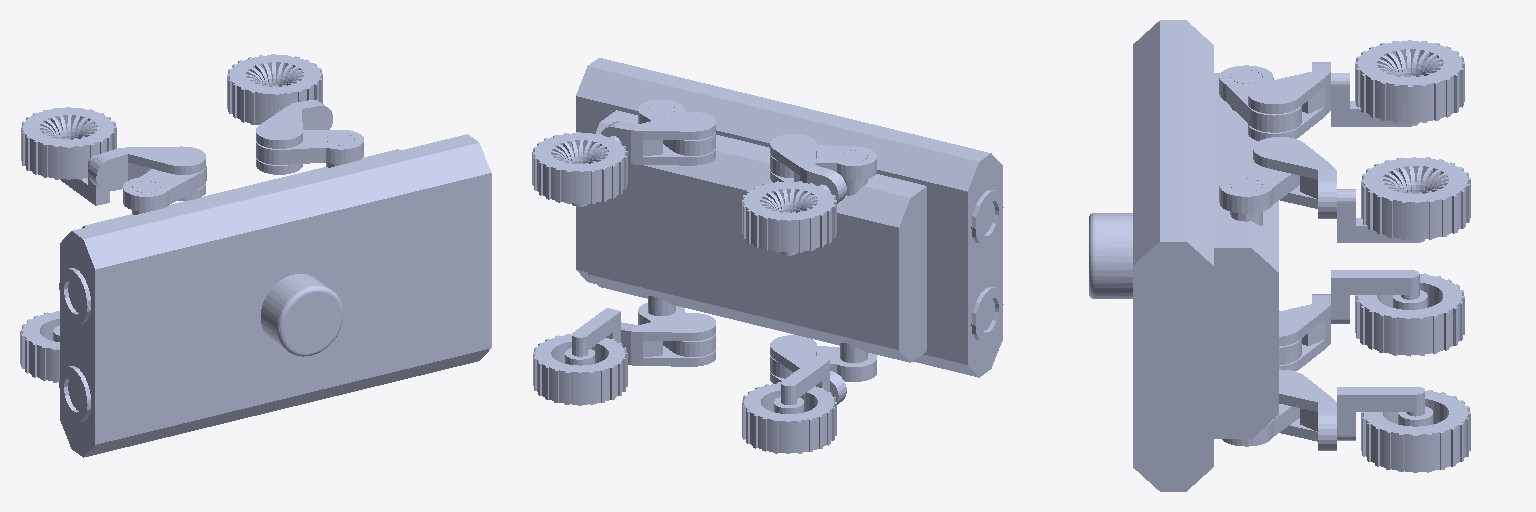
The robot description file, URDF, robot "mobile_robot":
<?xml version="1.0" encoding="utf-8"?>
<!-- This URDF was automatically created by SolidWorks to URDF Exporter! Originally created by [author] ([email redacted]) 
     Commit Version: 1.6.0-4-g7f85cfe  Build Version: 1.6.7995.38578
     For more information, please see http://wiki.ros.org/sw_urdf_exporter -->
<robot
  name="mobile_robot">
  <link
    name="base_link">
    <inertial>
      <origin
        xyz="-0.0005957 2.423E-08 0.030374"
        rpy="0 0 0" />
      <mass
        value="102.84" />
      <inertia
        ixx="2.2901"
        ixy="-3.0555E-07"
        ixz="0.0027335"
        iyy="7.6029"
        iyz="2.2414E-07"
        izz="8.7762" />
    </inertial>
    <visual>
      <origin
        xyz="0 0 0"
        rpy="0 0 0" />
      <geometry>
        <mesh
          filename="package://mobile_robot/meshes/base_link.STL" />
      </geometry>
      <material
        name="">
        <color
          rgba="0.79216 0.81961 0.93333 1" />
      </material>
    </visual>
    <collision>
      <origin
        xyz="0 0 0"
        rpy="0 0 0" />
      <geometry>
        <mesh
          filename="package://mobile_robot/meshes/base_link.STL" />
      </geometry>
    </collision>
  </link>
  <link
    name="link_1a">
    <inertial>
      <origin
        xyz="-0.039563 0.0175 -0.051981"
        rpy="0 0 0" />
      <mass
        value="0.50283" />
      <inertia
        ixx="0.0013292"
        ixy="3.8948E-20"
        ixz="-0.00067322"
        iyy="0.0022628"
        iyz="4.5606E-20"
        izz="0.0010363" />
    </inertial>
    <visual>
      <origin
        xyz="0 0 0"
        rpy="0 0 0" />
      <geometry>
        <mesh
          filename="package://mobile_robot/meshes/link_1a.STL" />
      </geometry>
      <material
        name="">
        <color
          rgba="0.79216 0.81961 0.93333 1" />
      </material>
    </visual>
    <collision>
      <origin
        xyz="0 0 0"
        rpy="0 0 0" />
      <geometry>
        <mesh
          filename="package://mobile_robot/meshes/link_1a.STL" />
      </geometry>
    </collision>
  </link>
  <joint
    name="joint_1a"
    type="fixed">
    <origin
      xyz="-0.2365 0.06 0.219"
      rpy="1.5707963267949 0 -1.83259571459404" />
    <parent
      link="base_link" />
    <child
      link="link_1a" />
    <axis
      xyz="0 0 0" />
  </joint>
  <link
    name="link_2a">
    <inertial>
      <origin
        xyz="0.053752 5.5511E-17 0.012418"
        rpy="0 0 0" />
      <mass
        value="0.83985" />
      <inertia
        ixx="0.0010103"
        ixy="3.5159E-18"
        ixz="0.00045632"
        iyy="0.0038041"
        iyz="1.2247E-19"
        izz="0.0039259" />
    </inertial>
    <visual>
      <origin
        xyz="0 0 0"
        rpy="0 0 0" />
      <geometry>
        <mesh
          filename="package://mobile_robot/meshes/link_2a.STL" />
      </geometry>
      <material
        name="">
        <color
          rgba="0.79216 0.81961 0.93333 1" />
      </material>
    </visual>
    <collision>
      <origin
        xyz="0 0 0"
        rpy="0 0 0" />
      <geometry>
        <mesh
          filename="package://mobile_robot/meshes/link_2a.STL" />
      </geometry>
    </collision>
  </link>
  <joint
    name="joint_2a"
    type="fixed">
    <origin
      xyz="-0.065529 0.0175 -0.09221"
      rpy="3.1416 -1.0472 3.1416" />
    <parent
      link="link_1a" />
    <child
      link="link_2a" />
    <axis
      xyz="0 0 0" />
  </joint>
  <link
    name="link_3a">
    <inertial>
      <origin
        xyz="0.042962 0 -0.10116"
        rpy="0 0 0" />
      <mass
        value="0.35188" />
      <inertia
        ixx="0.0012021"
        ixy="2.7184E-20"
        ixz="0.00020915"
        iyy="0.0014526"
        iyz="-1.5189E-20"
        izz="0.00031657" />
    </inertial>
    <visual>
      <origin
        xyz="0 0 0"
        rpy="0 0 0" />
      <geometry>
        <mesh
          filename="package://mobile_robot/meshes/link_3a.STL" />
      </geometry>
      <material
        name="">
        <color
          rgba="0.79216 0.81961 0.93333 1" />
      </material>
    </visual>
    <collision>
      <origin
        xyz="0 0 0"
        rpy="0 0 0" />
      <geometry>
        <mesh
          filename="package://mobile_robot/meshes/link_3a.STL" />
      </geometry>
    </collision>
  </link>
  <joint
    name="joint_3a"
    type="revolute">
    <origin
      xyz="0.14328 0 -0.028284"
      rpy="2.3562 0 -1.5708" />
    <parent
      link="link_2a" />
    <child
      link="link_3a" />
    <axis
      xyz="0 0 1" />
    <limit
      lower="-1.5708"
      upper="1.5708"
      effort="0"
      velocity="0" />
  </joint>
  <link
    name="wheel_a">
    <inertial>
      <origin
        xyz="2.7756E-17 -0.00032568 -1.1102E-16"
        rpy="0 0 0" />
      <mass
        value="1.5436" />
      <inertia
        ixx="0.0055361"
        ixy="1.2164E-18"
        ixz="-4.5536E-18"
        iyy="0.0095744"
        iyz="8.0969E-19"
        izz="0.0055361" />
    </inertial>
    <visual>
      <origin
        xyz="0 0 0"
        rpy="0 0 0" />
      <geometry>
        <mesh
          filename="package://mobile_robot/meshes/wheel_a.STL" />
      </geometry>
      <material
        name="">
        <color
          rgba="0.79216 0.81961 0.93333 1" />
      </material>
    </visual>
    <collision>
      <origin
        xyz="0 0 0"
        rpy="0 0 0" />
      <geometry>
        <mesh
          filename="package://mobile_robot/meshes/wheel_a.STL" />
      </geometry>
    </collision>
  </link>
  <joint
    name="wheel_joint_a"
    type="continuous">
    <origin
      xyz="0 0 -0.181"
      rpy="3.1416 -1.007 -1.5708" />
    <parent
      link="link_3a" />
    <child
      link="wheel_a" />
    <axis
      xyz="0 1 0" />
  </joint>
  <link
    name="link_1b">
    <inertial>
      <origin
        xyz="-0.039563006306928 0.0175 -0.0519808529026815"
        rpy="0 0 0" />
      <mass
        value="0.502830874607731" />
      <inertia
        ixx="0.00132920865544275"
        ixy="-1.25790800504412E-19"
        ixz="-0.000673218555283649"
        iyy="0.0022628023452921"
        iyz="-1.36434319248097E-19"
        izz="0.00103625499341509" />
    </inertial>
    <visual>
      <origin
        xyz="0 0 0"
        rpy="0 0 0" />
      <geometry>
        <mesh
          filename="package://mobile_robot/meshes/link_1b.STL" />
      </geometry>
      <material
        name="">
        <color
          rgba="0.792156862745098 0.819607843137255 0.933333333333333 1" />
      </material>
    </visual>
    <collision>
      <origin
        xyz="0 0 0"
        rpy="0 0 0" />
      <geometry>
        <mesh
          filename="package://mobile_robot/meshes/link_1b.STL" />
      </geometry>
    </collision>
  </link>
  <joint
    name="joint_1b"
    type="fixed">
    <origin
      xyz="-0.2365 0.06 -0.254"
      rpy="1.5708 0 -1.8326" />
    <parent
      link="base_link" />
    <child
      link="link_1b" />
    <axis
      xyz="0 0 0" />
  </joint>
  <link
    name="link_2b">
    <inertial>
      <origin
        xyz="0.053752102153806 2.77555756156289E-17 0.012417867361845"
        rpy="0 0 0" />
      <mass
        value="0.839852789561809" />
      <inertia
        ixx="0.00101033633411804"
        ixy="2.18377621542409E-18"
        ixz="0.000456321325264451"
        iyy="0.00380409172847023"
        iyz="-4.12559137247788E-19"
        izz="0.00392594422883486" />
    </inertial>
    <visual>
      <origin
        xyz="0 0 0"
        rpy="0 0 0" />
      <geometry>
        <mesh
          filename="package://mobile_robot/meshes/link_2b.STL" />
      </geometry>
      <material
        name="">
        <color
          rgba="0.792156862745098 0.819607843137255 0.933333333333333 1" />
      </material>
    </visual>
    <collision>
      <origin
        xyz="0 0 0"
        rpy="0 0 0" />
      <geometry>
        <mesh
          filename="package://mobile_robot/meshes/link_2b.STL" />
      </geometry>
    </collision>
  </link>
  <joint
    name="joint_2b"
    type="fixed">
    <origin
      xyz="-0.065529 0.0175 -0.09221"
      rpy="3.1416 -1.0472 3.1416" />
    <parent
      link="link_1b" />
    <child
      link="link_2b" />
    <axis
      xyz="0 0 0" />
  </joint>
  <link
    name="link_3b">
    <inertial>
      <origin
        xyz="0.0429616361908162 0 -0.101156749416517"
        rpy="0 0 0" />
      <mass
        value="0.351878584084715" />
      <inertia
        ixx="0.00120209563686855"
        ixy="9.90467630203431E-20"
        ixz="0.000209154549476735"
        iyy="0.00145264496019541"
        iyz="-2.64435583025856E-20"
        izz="0.000316574406941379" />
    </inertial>
    <visual>
      <origin
        xyz="0 0 0"
        rpy="0 0 0" />
      <geometry>
        <mesh
          filename="package://mobile_robot/meshes/link_3b.STL" />
      </geometry>
      <material
        name="">
        <color
          rgba="0.792156862745098 0.819607843137255 0.933333333333333 1" />
      </material>
    </visual>
    <collision>
      <origin
        xyz="0 0 0"
        rpy="0 0 0" />
      <geometry>
        <mesh
          filename="package://mobile_robot/meshes/link_3b.STL" />
      </geometry>
    </collision>
  </link>
  <joint
    name="joint_3b"
    type="revolute">
    <origin
      xyz="0.14328 0 -0.028284"
      rpy="-2.3562 0 1.5708" />
    <parent
      link="link_2b" />
    <child
      link="link_3b" />
    <axis
      xyz="0 0 1" />
    <limit
      lower="-1.5708"
      upper="1.5708"
      effort="0"
      velocity="0" />
  </joint>
  <link
    name="wheel_b">
    <inertial>
      <origin
        xyz="0 -0.000325682611319128 0"
        rpy="0 0 0" />
      <mass
        value="1.54358472058328" />
      <inertia
        ixx="0.00553612528961153"
        ixy="2.24148890264748E-19"
        ixz="-2.16840434497101E-19"
        iyy="0.00957443122522794"
        iyz="3.35832558184495E-19"
        izz="0.00553612528961153" />
    </inertial>
    <visual>
      <origin
        xyz="0 0 0"
        rpy="0 0 0" />
      <geometry>
        <mesh
          filename="package://mobile_robot/meshes/wheel_b.STL" />
      </geometry>
      <material
        name="">
        <color
          rgba="0.792156862745098 0.819607843137255 0.933333333333333 1" />
      </material>
    </visual>
    <collision>
      <origin
        xyz="0 0 0"
        rpy="0 0 0" />
      <geometry>
        <mesh
          filename="package://mobile_robot/meshes/wheel_b.STL" />
      </geometry>
    </collision>
  </link>
  <joint
    name="wheel_joint_b"
    type="continuous">
    <origin
      xyz="0 0 -0.181"
      rpy="0 0.5132 1.5708" />
    <parent
      link="link_3b" />
    <child
      link="wheel_b" />
    <axis
      xyz="0 1 0" />
  </joint>
  <link
    name="link_1c">
    <inertial>
      <origin
        xyz="-0.0395630063069281 0.0175 -0.0519808529026815"
        rpy="0 0 0" />
      <mass
        value="0.502830874607731" />
      <inertia
        ixx="0.00132920865544275"
        ixy="-6.1654949534134E-20"
        ixz="-0.00067321855528365"
        iyy="0.0022628023452921"
        iyz="7.59540540768857E-21"
        izz="0.00103625499341509" />
    </inertial>
    <visual>
      <origin
        xyz="0 0 0"
        rpy="0 0 0" />
      <geometry>
        <mesh
          filename="package://mobile_robot/meshes/link_1c.STL" />
      </geometry>
      <material
        name="">
        <color
          rgba="0.792156862745098 0.819607843137255 0.933333333333333 1" />
      </material>
    </visual>
    <collision>
      <origin
        xyz="0 0 0"
        rpy="0 0 0" />
      <geometry>
        <mesh
          filename="package://mobile_robot/meshes/link_1c.STL" />
      </geometry>
    </collision>
  </link>
  <joint
    name="joint_1c"
    type="fixed">
    <origin
      xyz="0.2365 0.06 -0.254"
      rpy="1.5708 0 0.39187" />
    <parent
      link="base_link" />
    <child
      link="link_1c" />
    <axis
      xyz="0 0 0" />
  </joint>
  <link
    name="link_2c">
    <inertial>
      <origin
        xyz="0.0537521021538061 5.55111512312578E-17 0.012417867361845"
        rpy="0 0 0" />
      <mass
        value="0.83985278956181" />
      <inertia
        ixx="0.00101033633411805"
        ixy="2.32765525104793E-18"
        ixz="0.000456321325264452"
        iyy="0.00380409172847023"
        iyz="3.76989989844925E-20"
        izz="0.00392594422883488" />
    </inertial>
    <visual>
      <origin
        xyz="0 0 0"
        rpy="0 0 0" />
      <geometry>
        <mesh
          filename="package://mobile_robot/meshes/link_2c.STL" />
      </geometry>
      <material
        name="">
        <color
          rgba="0.792156862745098 0.819607843137255 0.933333333333333 1" />
      </material>
    </visual>
    <collision>
      <origin
        xyz="0 0 0"
        rpy="0 0 0" />
      <geometry>
        <mesh
          filename="package://mobile_robot/meshes/link_2c.STL" />
      </geometry>
    </collision>
  </link>
  <joint
    name="joint_2c"
    type="fixed">
    <origin
      xyz="-0.074188 0.0175 -0.08461"
      rpy="3.1416 0.39353 0" />
    <parent
      link="link_1c" />
    <child
      link="link_2c" />
    <axis
      xyz="0 0 0" />
  </joint>
  <link
    name="link_3c">
    <inertial>
      <origin
        xyz="0.0429616361908162 0.0175 0.0248432505834826"
        rpy="0 0 0" />
      <mass
        value="0.351878584084715" />
      <inertia
        ixx="0.00120209563686855"
        ixy="-1.83460442767597E-20"
        ixz="0.000209154549476735"
        iyy="0.00145264496019541"
        iyz="1.21046182851412E-19"
        izz="0.000316574406941379" />
    </inertial>
    <visual>
      <origin
        xyz="0 0 0"
        rpy="0 0 0" />
      <geometry>
        <mesh
          filename="package://mobile_robot/meshes/link_3c.STL" />
      </geometry>
      <material
        name="">
        <color
          rgba="0.792156862745098 0.819607843137255 0.933333333333333 1" />
      </material>
    </visual>
    <collision>
      <origin
        xyz="0 0 0"
        rpy="0 0 0" />
      <geometry>
        <mesh
          filename="package://mobile_robot/meshes/link_3c.STL" />
      </geometry>
    </collision>
  </link>
  <joint
    name="joint_3c"
    type="fixed">
    <origin
      xyz="0.24475 0 0.048437"
      rpy="2.3562 0 -1.5708" />
    <parent
      link="link_2c" />
    <child
      link="link_3c" />
    <axis
      xyz="0 0 0" />
  </joint>
  <link
    name="wheel_c">
    <inertial>
      <origin
        xyz="5.55111512312578E-17 -0.00032568261131935 -1.11022302462516E-16"
        rpy="0 0 0" />
      <mass
        value="1.54358472058328" />
      <inertia
        ixx="0.00553612528961155"
        ixy="4.16479688089891E-19"
        ixz="-1.30104260698261E-18"
        iyy="0.00957443122522799"
        iyz="5.28611900711342E-19"
        izz="0.00553612528961156" />
    </inertial>
    <visual>
      <origin
        xyz="0 0 0"
        rpy="0 0 0" />
      <geometry>
        <mesh
          filename="package://mobile_robot/meshes/wheel_c.STL" />
      </geometry>
      <material
        name="">
        <color
          rgba="0.792156862745098 0.819607843137255 0.933333333333333 1" />
      </material>
    </visual>
    <collision>
      <origin
        xyz="0 0 0"
        rpy="0 0 0" />
      <geometry>
        <mesh
          filename="package://mobile_robot/meshes/wheel_c.STL" />
      </geometry>
    </collision>
  </link>
  <joint
    name="wheel_joint_c"
    type="continuous">
    <origin
      xyz="0 0.0175 -0.055"
      rpy="0 0.48844 1.5708" />
    <parent
      link="link_3c" />
    <child
      link="wheel_c" />
    <axis
      xyz="0 1 0" />
  </joint>
  <link
    name="link_1d">
    <inertial>
      <origin
        xyz="-0.0395630063069281 0.0175 -0.0519808529026815"
        rpy="0 0 0" />
      <mass
        value="0.502830874607731" />
      <inertia
        ixx="0.00132920865544275"
        ixy="-1.2946873241384E-20"
        ixz="-0.000673218555283649"
        iyy="0.0022628023452921"
        iyz="1.94753182428243E-22"
        izz="0.00103625499341509" />
    </inertial>
    <visual>
      <origin
        xyz="0 0 0"
        rpy="0 0 0" />
      <geometry>
        <mesh
          filename="package://mobile_robot/meshes/link_1d.STL" />
      </geometry>
      <material
        name="">
        <color
          rgba="0.792156862745098 0.819607843137255 0.933333333333333 1" />
      </material>
    </visual>
    <collision>
      <origin
        xyz="0 0 0"
        rpy="0 0 0" />
      <geometry>
        <mesh
          filename="package://mobile_robot/meshes/link_1d.STL" />
      </geometry>
    </collision>
  </link>
  <joint
    name="joint_1d"
    type="fixed">
    <origin
      xyz="0.2365 0.06 0.219"
      rpy="1.5708 0 0.39187" />
    <parent
      link="base_link" />
    <child
      link="link_1d" />
    <axis
      xyz="0 0 0" />
  </joint>
  <link
    name="link_2">
    <inertial>
      <origin
        xyz="0.0537521021538062 2.77555756156289E-17 0.012417867361845"
        rpy="0 0 0" />
      <mass
        value="0.83985278956181" />
      <inertia
        ixx="0.00101033633411805"
        ixy="1.14413683967417E-18"
        ixz="0.000456321325264452"
        iyy="0.00380409172847024"
        iyz="2.3886409977526E-19"
        izz="0.00392594422883488" />
    </inertial>
    <visual>
      <origin
        xyz="0 0 0"
        rpy="0 0 0" />
      <geometry>
        <mesh
          filename="package://mobile_robot/meshes/link_2.STL" />
      </geometry>
      <material
        name="">
        <color
          rgba="0.792156862745098 0.819607843137255 0.933333333333333 1" />
      </material>
    </visual>
    <collision>
      <origin
        xyz="0 0 0"
        rpy="0 0 0" />
      <geometry>
        <mesh
          filename="package://mobile_robot/meshes/link_2.STL" />
      </geometry>
    </collision>
  </link>
  <joint
    name="joint_2"
    type="fixed">
    <origin
      xyz="-0.074188 0.0175 -0.08461"
      rpy="3.1416 0.39353 0" />
    <parent
      link="link_1d" />
    <child
      link="link_2" />
    <axis
      xyz="0 0 0" />
  </joint>
  <link
    name="link_3d">
    <inertial>
      <origin
        xyz="0.0429616361908162 0.0175 0.0248432505834826"
        rpy="0 0 0" />
      <mass
        value="0.351878584084715" />
      <inertia
        ixx="0.00120209563686855"
        ixy="-3.5613123466281E-20"
        ixz="0.000209154549476735"
        iyy="0.00145264496019541"
        iyz="-1.97938259373571E-19"
        izz="0.000316574406941379" />
    </inertial>
    <visual>
      <origin
        xyz="0 0 0"
        rpy="0 0 0" />
      <geometry>
        <mesh
          filename="package://mobile_robot/meshes/link_3d.STL" />
      </geometry>
      <material
        name="">
        <color
          rgba="0.792156862745098 0.819607843137255 0.933333333333333 1" />
      </material>
    </visual>
    <collision>
      <origin
        xyz="0 0 0"
        rpy="0 0 0" />
      <geometry>
        <mesh
          filename="package://mobile_robot/meshes/link_3d.STL" />
      </geometry>
    </collision>
  </link>
  <joint
    name="joint_3d"
    type="fixed">
    <origin
      xyz="0.22001 0 0.073186"
      rpy="-2.3562 0 1.5708" />
    <parent
      link="link_2" />
    <child
      link="link_3d" />
    <axis
      xyz="0 0 0" />
  </joint>
  <link
    name="wheel_d">
    <inertial>
      <origin
        xyz="0 -0.000325682611318989 0"
        rpy="0 0 0" />
      <mass
        value="1.54358472058328" />
      <inertia
        ixx="0.00553612528961153"
        ixy="2.76130854728311E-18"
        ixz="-3.03576608295941E-18"
        iyy="0.00957443122522794"
        iyz="-1.43498117338083E-19"
        izz="0.00553612528961153" />
    </inertial>
    <visual>
      <origin
        xyz="0 0 0"
        rpy="0 0 0" />
      <geometry>
        <mesh
          filename="package://mobile_robot/meshes/wheel_d.STL" />
      </geometry>
      <material
        name="">
        <color
          rgba="0.792156862745098 0.819607843137255 0.933333333333333 1" />
      </material>
    </visual>
    <collision>
      <origin
        xyz="0 0 0"
        rpy="0 0 0" />
      <geometry>
        <mesh
          filename="package://mobile_robot/meshes/wheel_d.STL" />
      </geometry>
    </collision>
  </link>
  <joint
    name="wheel_joint_d"
    type="continuous">
    <origin
      xyz="0 0.0175 -0.055"
      rpy="0 0.77621 1.5708" />
    <parent
      link="link_3d" />
    <child
      link="wheel_d" />
    <axis
      xyz="0 1 0" />
  </joint>
  <link
    name="lidar">
    <inertial>
      <origin
        xyz="1.16356825275844E-18 8.31876439690872E-18 0.0497497202049783"
        rpy="0 0 0" />
      <mass
        value="2.00013341899983" />
      <inertia
        ixx="0.00483668426767401"
        ixy="-2.16840434497101E-19"
        ixz="1.32977116051093E-19"
        iyy="0.00483668426767401"
        iyz="1.75346905687105E-19"
        izz="0.00637045764760341" />
    </inertial>
    <visual>
      <origin
        xyz="0 0 0"
        rpy="0 0 0" />
      <geometry>
        <mesh
          filename="package://mobile_robot/meshes/lidar.STL" />
      </geometry>
      <material
        name="">
        <color
          rgba="0.792156862745098 0.819607843137255 0.933333333333333 1" />
      </material>
    </visual>
    <collision>
      <origin
        xyz="0 0 0"
        rpy="0 0 0" />
      <geometry>
        <mesh
          filename="package://mobile_robot/meshes/lidar.STL" />
      </geometry>
    </collision>
  </link>
  <joint
    name="lidar_joint"
    type="continuous">
    <origin
      xyz="0 -0.13 0"
      rpy="-1.5708 0.44382 -3.1416" />
    <parent
      link="base_link" />
    <child
      link="lidar" />
    <axis
      xyz="0 0 1" />
  </joint>
</robot>

--- Render facts (derived) ---
Views: 3 orthographic renders of the robot side by side, from view 1: azimuth 30°, elevation 25°; view 2: azimuth 150°, elevation 25°; view 3: azimuth 270°, elevation 25°.
Model mobile_robot with 18 links and 17 joints (2 revolute, 5 continuous, 10 fixed), rooted at base_link, posed every joint at zero.
Links seen in each view (by area): view 1: base_link, wheel_a, lidar, wheel_d, link_2a, link_2, link_1d, wheel_b, link_1a, link_3a; view 2: base_link, wheel_d, wheel_a, wheel_b, wheel_c, link_2, link_2c, link_2a, link_1a, link_2b, link_1b, link_3c (+3 smaller); view 3: base_link, wheel_a, wheel_d, wheel_c, wheel_b, link_2, link_2a, lidar, link_2c, link_3b, link_3c, link_2b (+5 smaller).
Link boxes in pixels (x1=…): base_link: x1=59, y1=134, x2=491, y2=457; wheel_a: x1=21, y1=107, x2=116, y2=179; lidar: x1=261, y1=274, x2=342, y2=356; wheel_d: x1=227, y1=54, x2=322, y2=124; link_2a: x1=88, y1=146, x2=205, y2=200; link_2: x1=256, y1=100, x2=332, y2=174; link_1d: x1=256, y1=130, x2=363, y2=164; wheel_b: x1=20, y1=311, x2=59, y2=382; link_1a: x1=123, y1=166, x2=206, y2=211; link_3a: x1=60, y1=155, x2=118, y2=205; base_link: x1=576, y1=58, x2=1003, y2=377; wheel_d: x1=532, y1=132, x2=627, y2=204; wheel_a: x1=742, y1=181, x2=836, y2=252; wheel_b: x1=742, y1=382, x2=836, y2=453; wheel_c: x1=533, y1=334, x2=627, y2=405; link_2: x1=601, y1=112, x2=715, y2=165; link_2c: x1=621, y1=313, x2=715, y2=366; link_2a: x1=770, y1=134, x2=846, y2=203; link_1a: x1=770, y1=145, x2=876, y2=180; link_2b: x1=770, y1=335, x2=846, y2=404; link_1b: x1=770, y1=346, x2=876, y2=381; link_3c: x1=572, y1=308, x2=620, y2=356; base_link: x1=1133, y1=20, x2=1278, y2=491; wheel_a: x1=1355, y1=40, x2=1464, y2=123; wheel_d: x1=1361, y1=157, x2=1470, y2=240; wheel_c: x1=1361, y1=390, x2=1470, y2=472; wheel_b: x1=1355, y1=273, x2=1464, y2=356; link_2: x1=1253, y1=137, x2=1336, y2=218; link_2a: x1=1248, y1=62, x2=1330, y2=140; lidar: x1=1089, y1=213, x2=1132, y2=298; link_2c: x1=1279, y1=369, x2=1336, y2=450; link_3b: x1=1331, y1=270, x2=1419, y2=323; link_3c: x1=1337, y1=387, x2=1424, y2=440; link_2b: x1=1279, y1=294, x2=1330, y2=370.
Size in the robot's own frame: 0.975 by 0.7037 by 0.553 metres.
Meshes: 18 distinct files referenced, 18 mesh visuals loaded (18 binary STL).